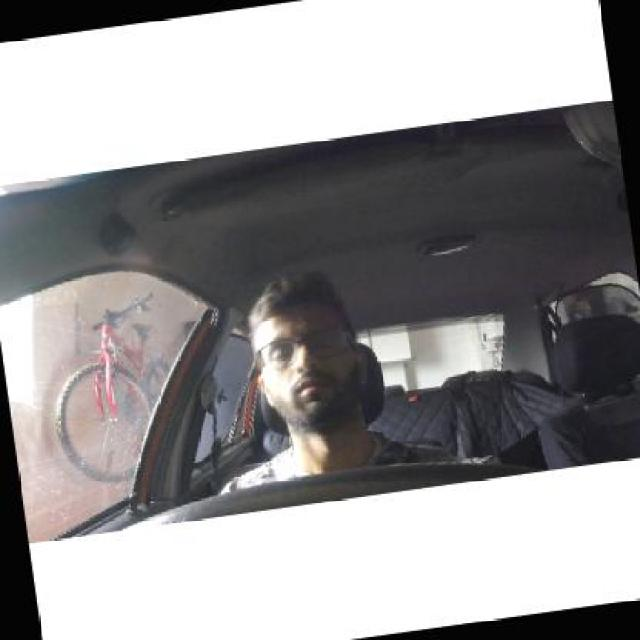drowsy: (244, 270, 378, 439)
